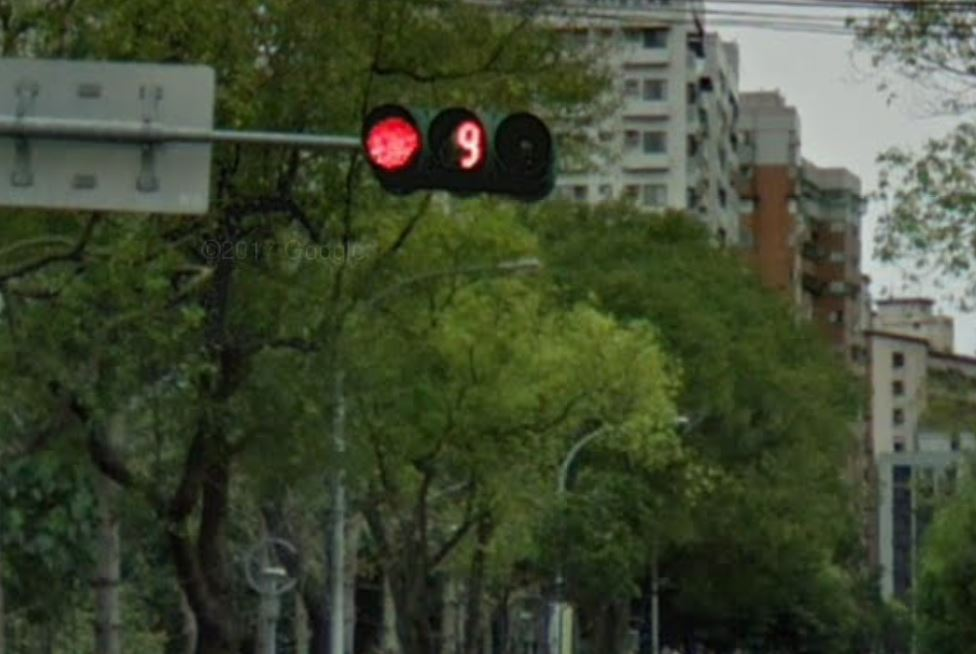Traffic_light_red: (359, 103, 556, 186)
